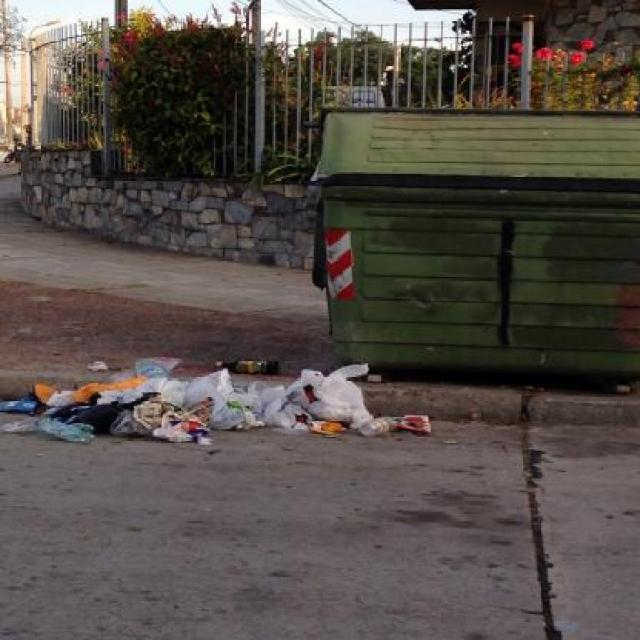garbage: (17, 349, 422, 449)
